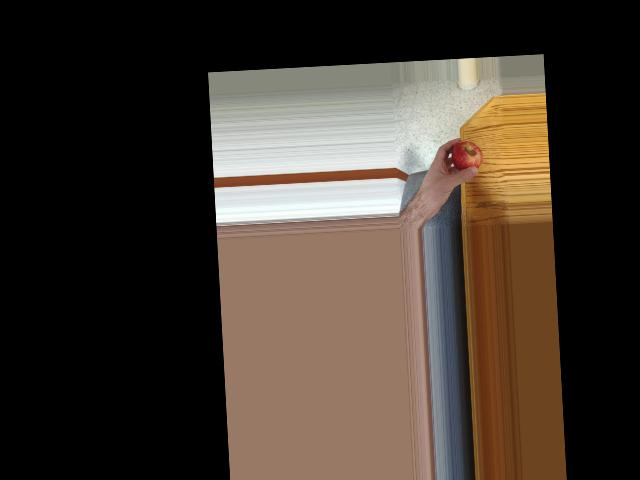apple: (449, 140, 483, 176)
